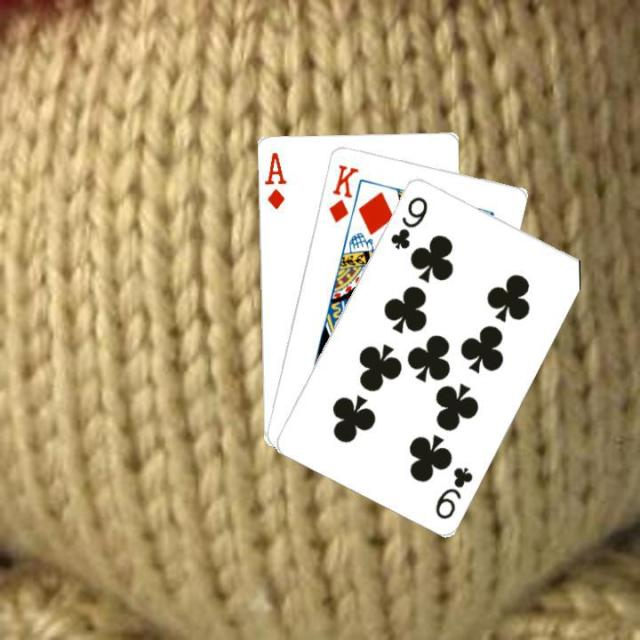9C: (430, 462, 475, 521), (386, 192, 430, 252)
AD: (260, 148, 288, 210)
KD: (324, 160, 360, 225)
